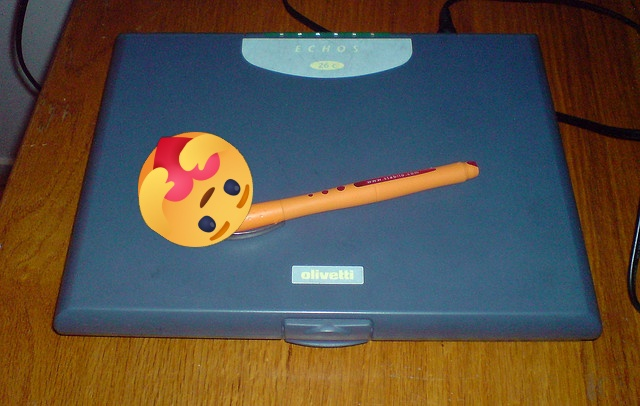care: (138, 132, 253, 247)
